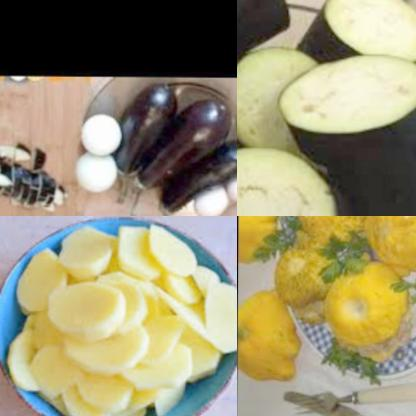eggplant: (237, 0, 416, 216), (126, 95, 237, 195), (147, 138, 237, 214), (100, 79, 167, 179), (0, 128, 73, 216)
potato: (2, 216, 237, 416)
squash-patisson: (321, 258, 414, 350), (237, 285, 300, 385), (267, 233, 348, 305), (362, 216, 416, 275), (237, 216, 278, 271), (287, 216, 368, 242)
